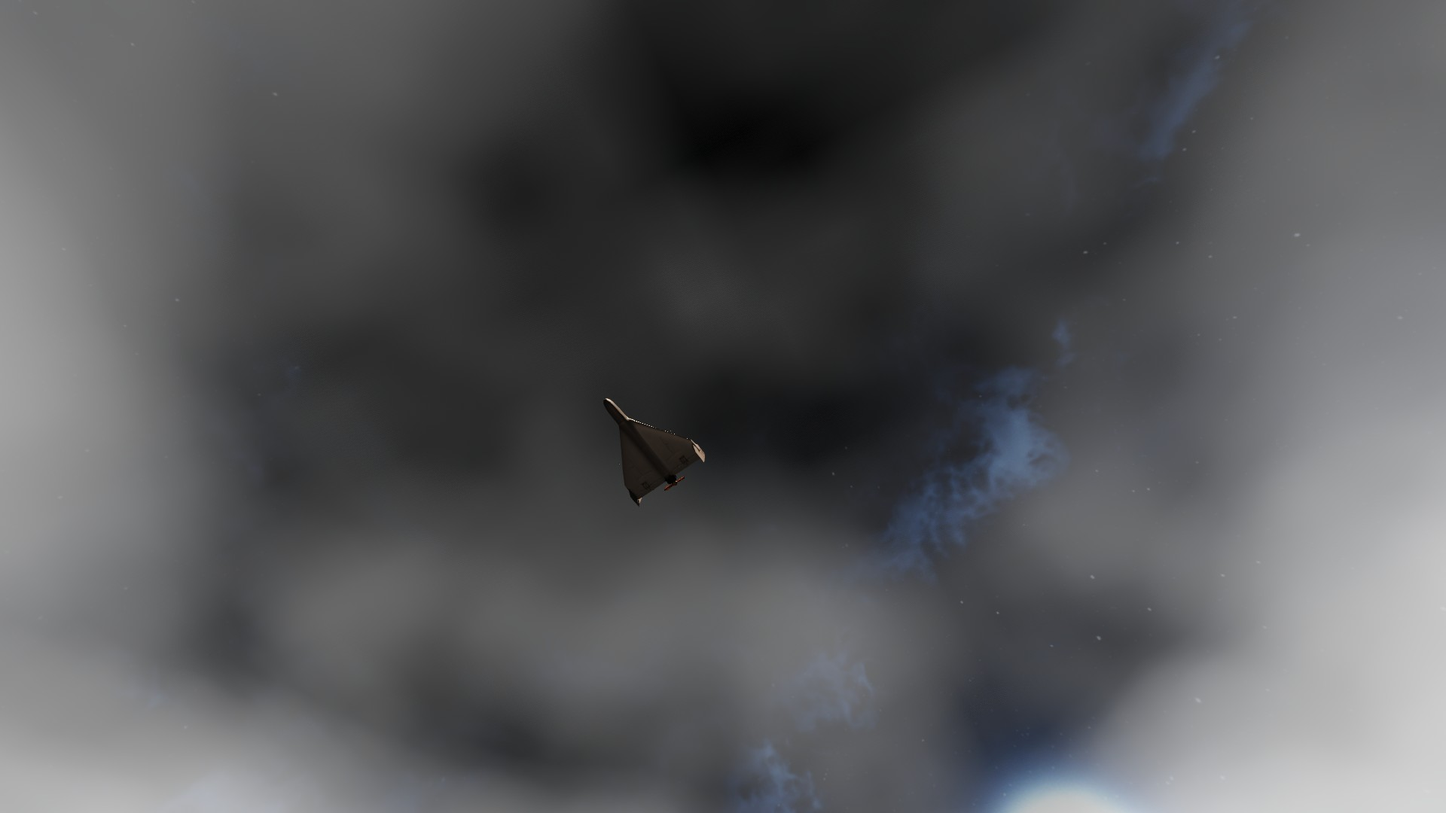shahed: (603, 398, 705, 507)
